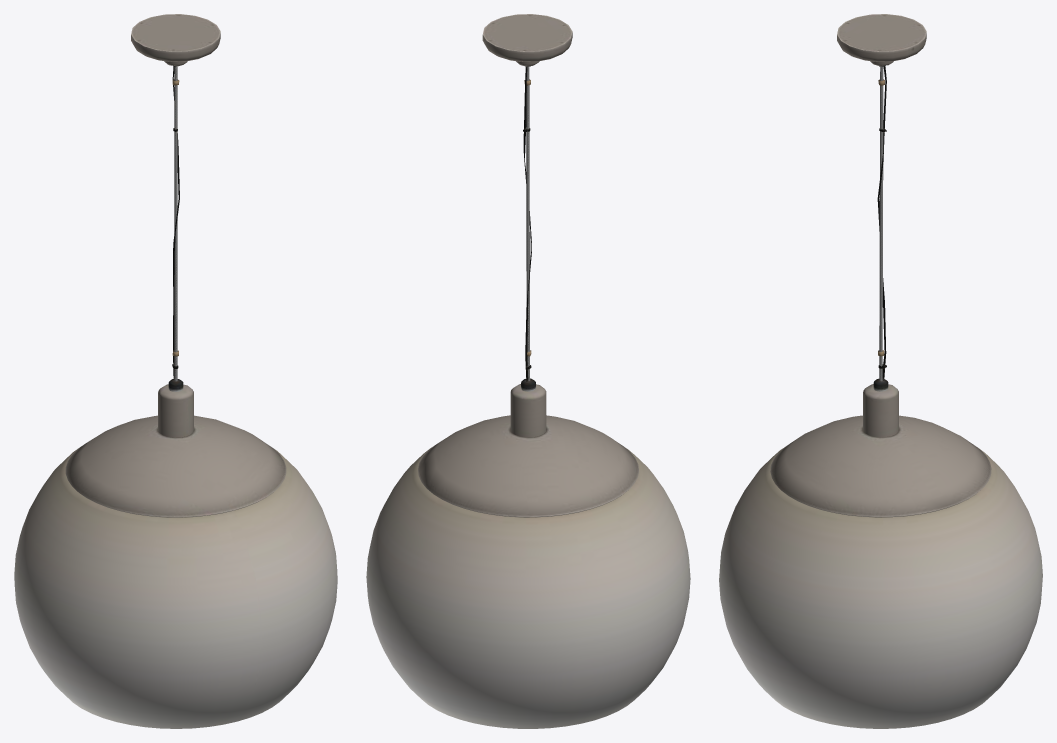
The model's file is pendant_globe.glb.
The picture shows the model from 3 angles, left to right: view 1: azimuth 30°, elevation 25°; view 2: azimuth 150°, elevation 25°; view 3: azimuth 270°, elevation 25°; orthographic projection.
Visible parts, largest first — view 1: modern_ceiling_lamp_01; view 2: modern_ceiling_lamp_01; view 3: modern_ceiling_lamp_01.
Part boxes in pixels (x1,y1,x2,y2): modern_ceiling_lamp_01: [14, 14, 337, 728]; modern_ceiling_lamp_01: [366, 14, 690, 728]; modern_ceiling_lamp_01: [719, 14, 1042, 728].
Size of the model in its own units: 0.4316 by 0.9512 by 0.4317.
Materials: 2 (2 with a texture image).
